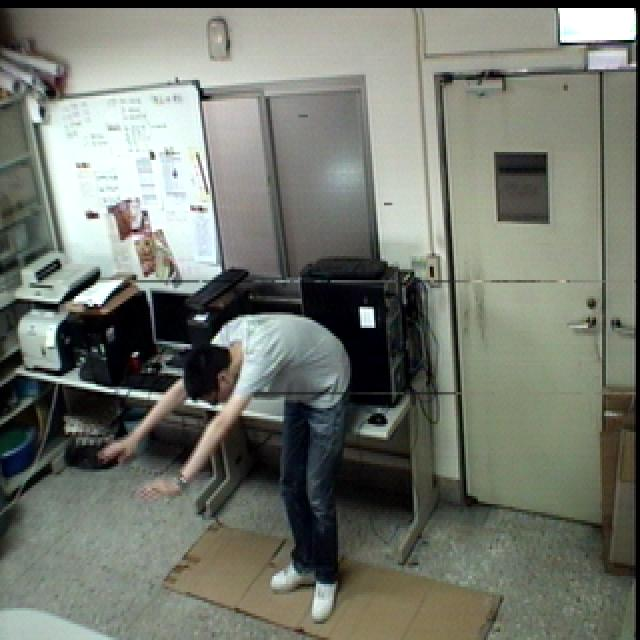bend: (96, 308, 356, 627)
